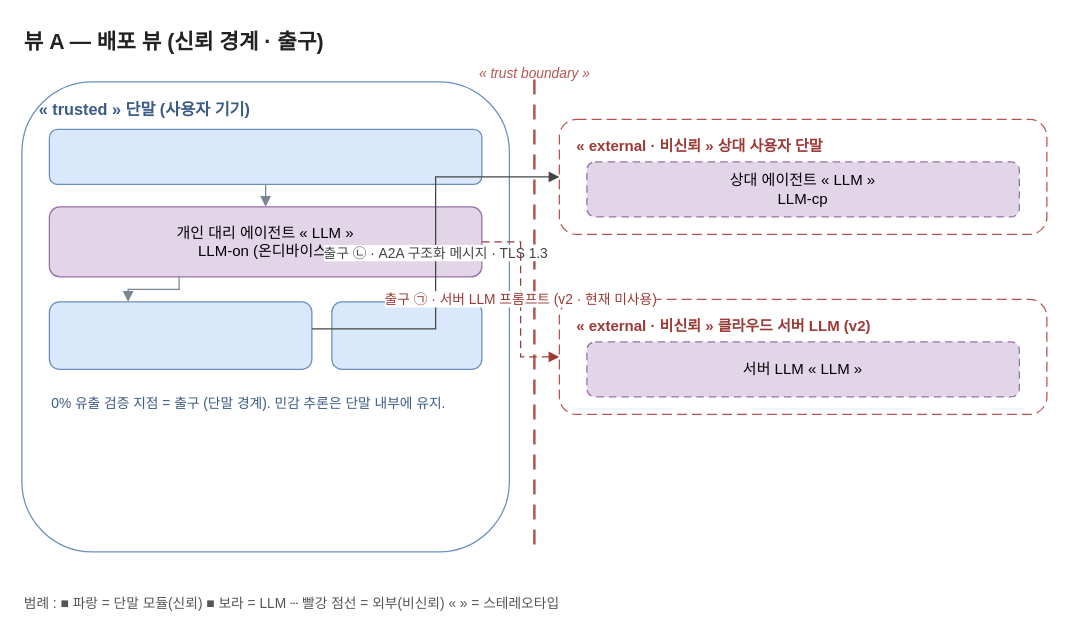
Image size: 1069x635. Some labels were removed from this diagram. The shapes that lost their labels are listed below. From the top down, each one's centre as x and y in pixels, then its label:
At point (265, 156): "로컬 Tool · DPA (가전·캘린더·결제·건강)".
At point (180, 335): "PrivacyMediator / EgressGate".
At point (406, 335): "PrivacyVault (토큰 보관)".
